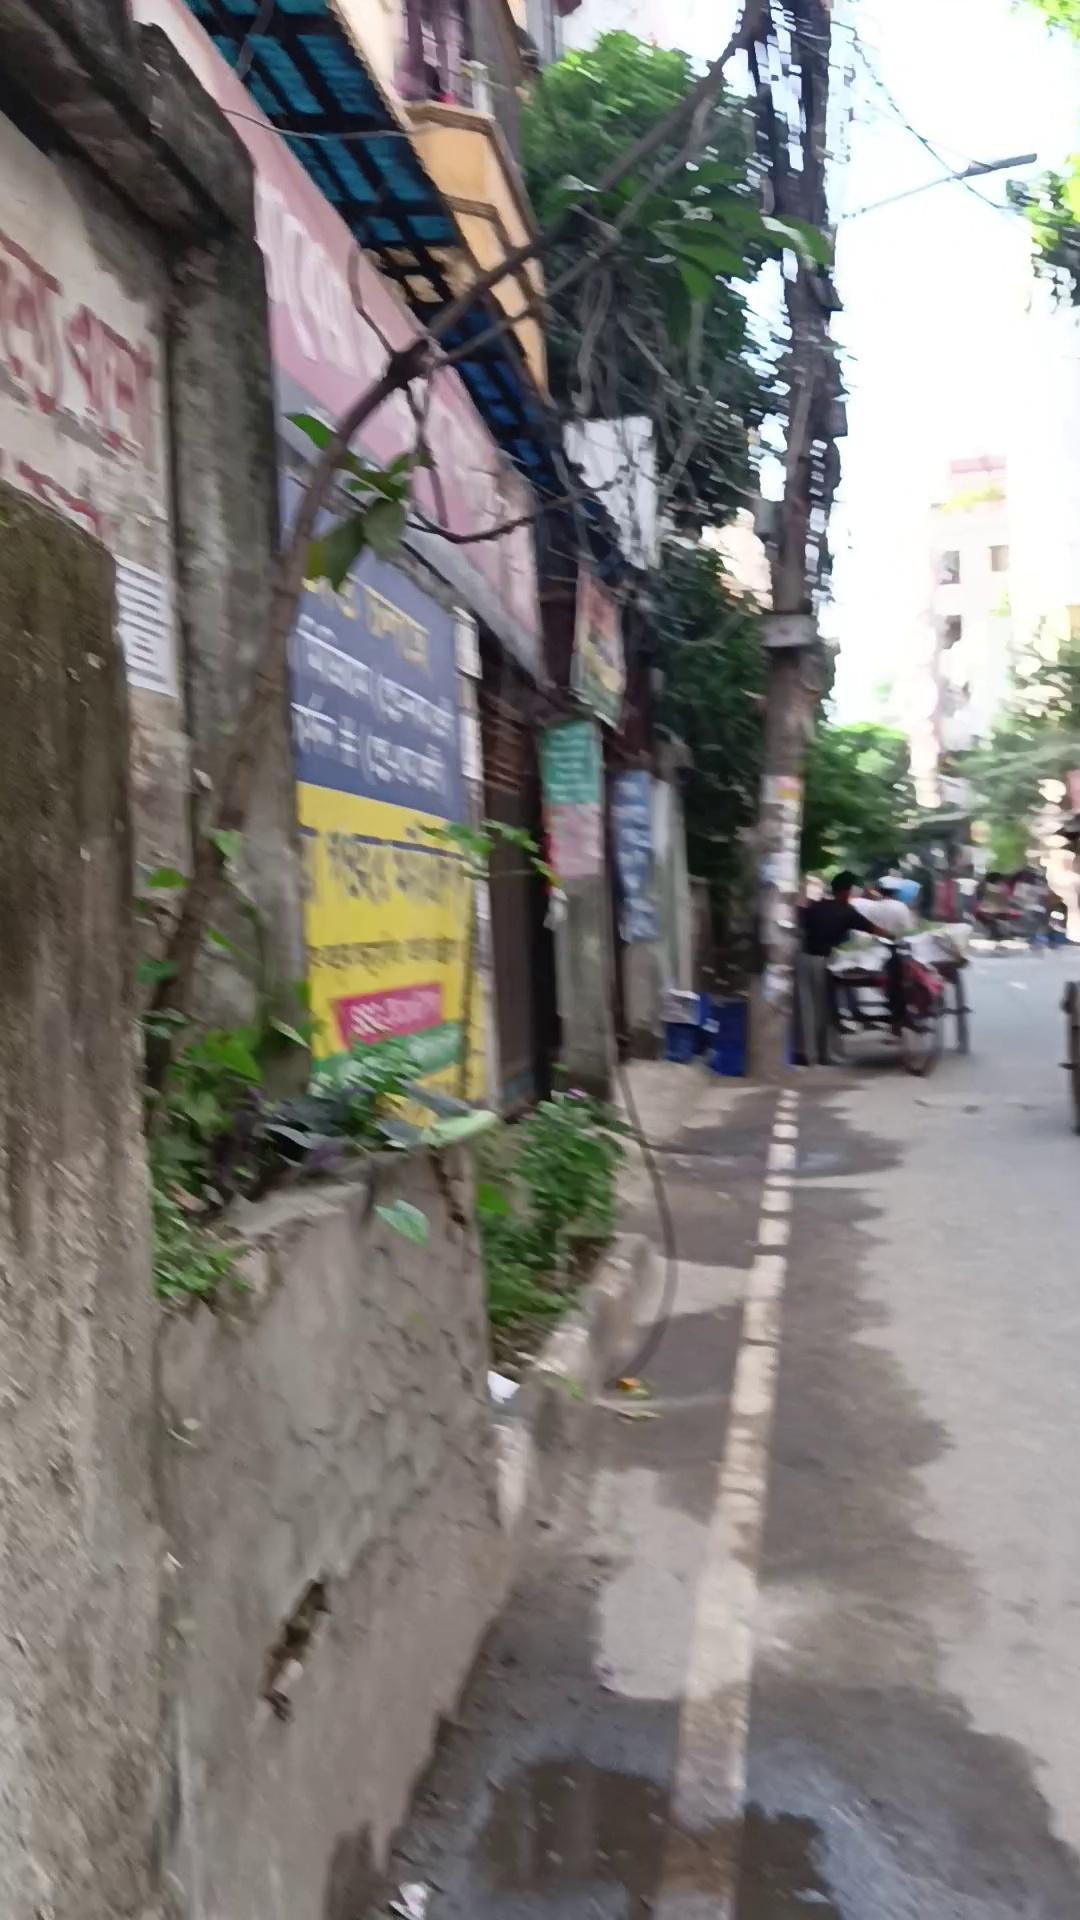Cat: (702, 989, 749, 1076), (657, 986, 703, 1064)
Crosswalk: (825, 963, 893, 1033)
Curb: (787, 868, 895, 1065)
Dog: (741, 1, 839, 1021)
Fallen-tree: (476, 1081, 634, 1381)
Fence: (823, 953, 971, 1060)
Obstacle: (3, 3, 534, 1917)
